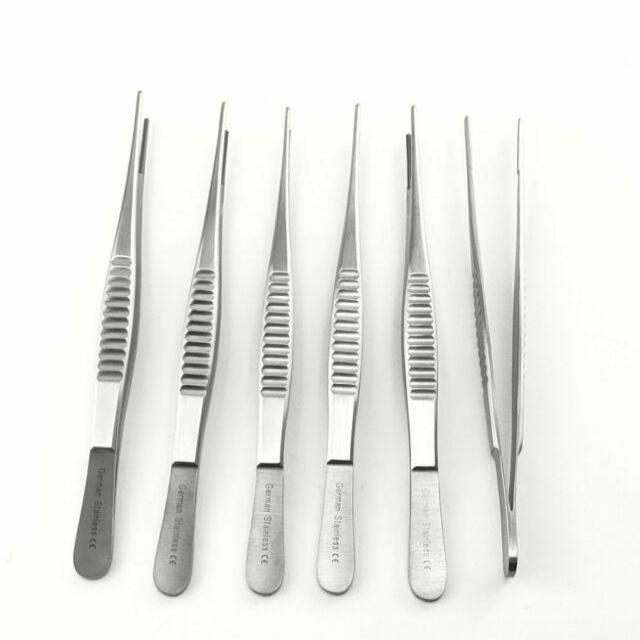Forceps: (69, 90, 153, 583), (151, 97, 232, 601), (462, 110, 528, 584), (398, 100, 454, 610), (242, 100, 299, 600), (313, 98, 366, 600)
